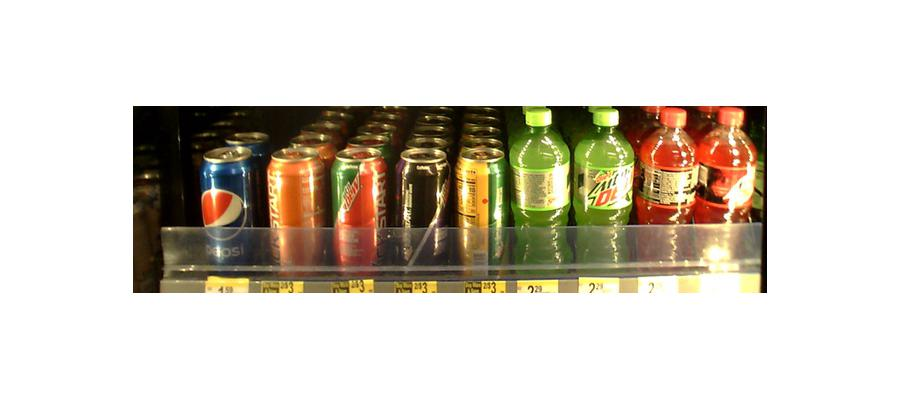bottle: (694, 107, 756, 274), (572, 106, 633, 270), (636, 106, 696, 269), (514, 107, 571, 272), (262, 140, 329, 268), (198, 142, 259, 261), (454, 139, 509, 269), (394, 144, 451, 269), (330, 148, 388, 266)
